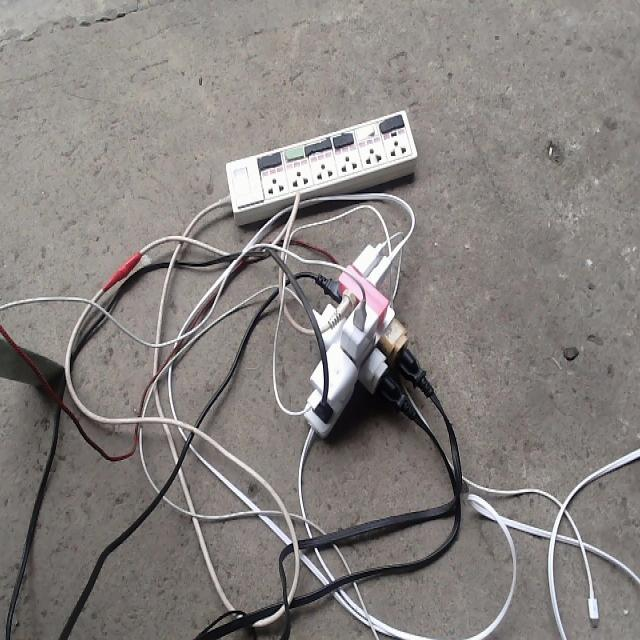-: (293, 239, 432, 441)
